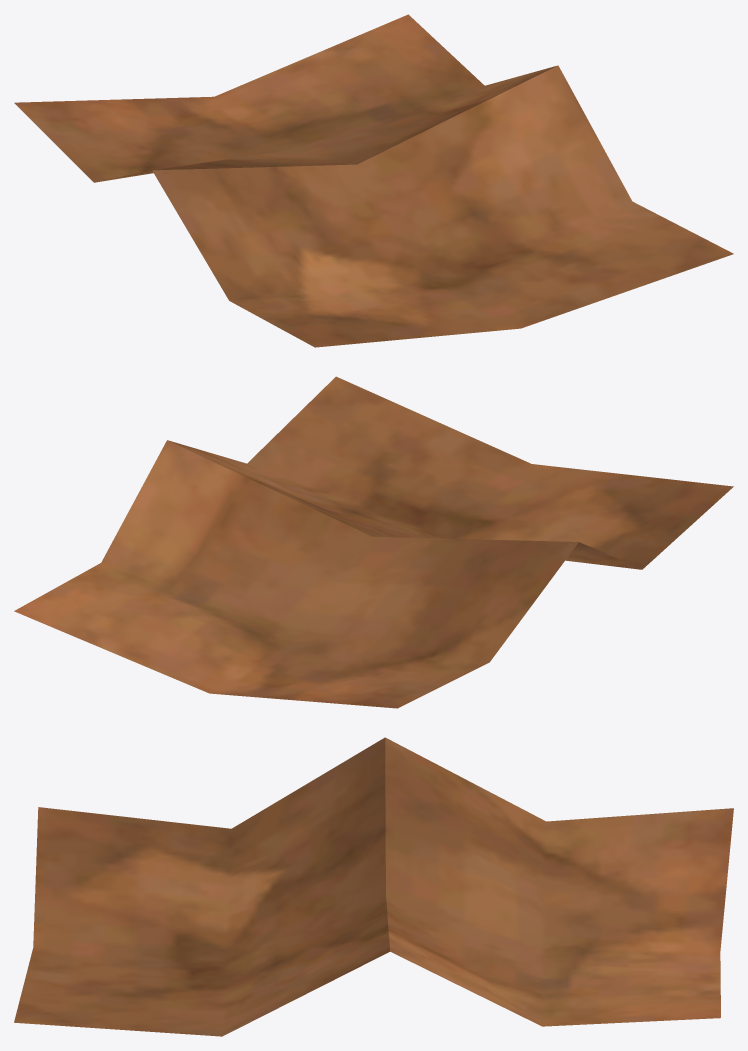
Rendered from thm_tato_jawa_tent_med_l3.fbx.
3 renders of one model, top to bottom at view 1: azimuth 30°, elevation 25°; view 2: azimuth 150°, elevation 25°; view 3: azimuth 270°, elevation 25°, orthographic. The views are drawn at different scales.
Parts seen in each view (by area): view 1: mesh_node; view 2: mesh_node; view 3: mesh_node.
Part boxes in pixels (x1,y1,x2,y2): mesh_node: (14,14,733,347); mesh_node: (14,376,733,708); mesh_node: (14,737,733,1036).
Bounding box in the file's own units: 6.49 × 1.56 × 8.98.
1 material, 1 textured.
